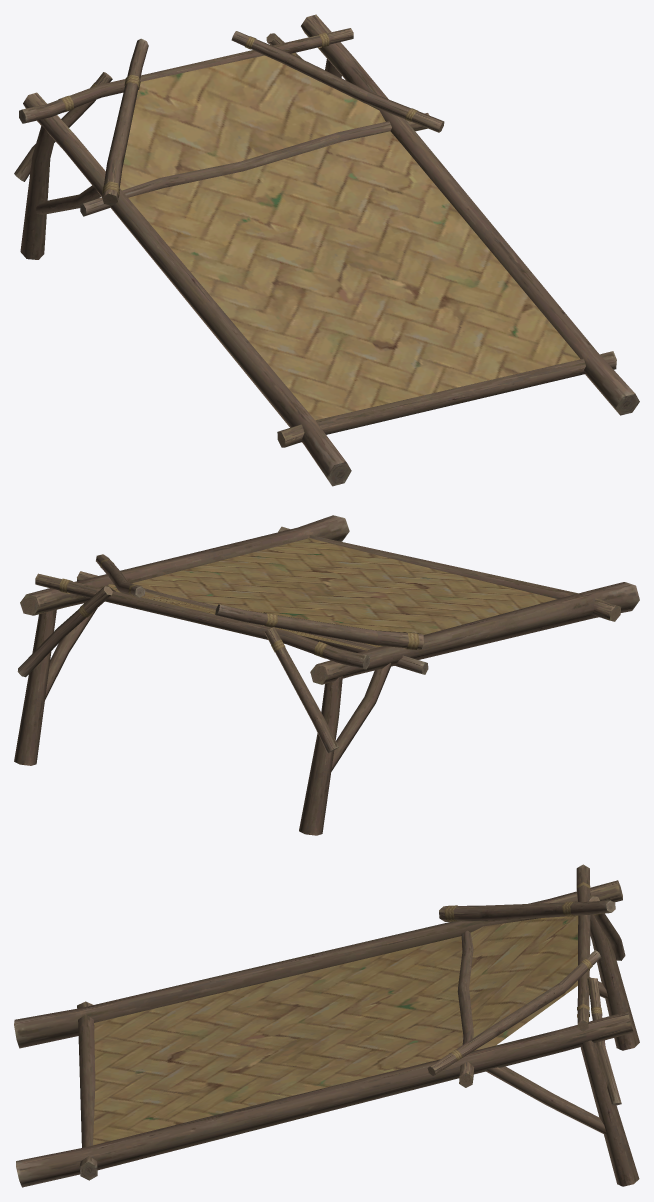
Rendered from Homeworld_Exterior_Xm_Build_WaterStall_02_Lod0.fbx.
3 views of the same model, one above another, from view 1: azimuth 30°, elevation 25°; view 2: azimuth 150°, elevation 25°; view 3: azimuth 270°, elevation 25° (orthographic). The views are drawn at different scales.
Parts seen in each view (by area): view 1: Homeworld_Exterior_Xm_Build_WaterStall_02_Lod0; view 2: Homeworld_Exterior_Xm_Build_WaterStall_02_Lod0; view 3: Homeworld_Exterior_Xm_Build_WaterStall_02_Lod0.
Boxes of the visible parts, x1,y1,x2,y2 form: Homeworld_Exterior_Xm_Build_WaterStall_02_Lod0: [14, 14, 639, 486]; Homeworld_Exterior_Xm_Build_WaterStall_02_Lod0: [14, 515, 639, 835]; Homeworld_Exterior_Xm_Build_WaterStall_02_Lod0: [14, 864, 639, 1187].
Size of the model in its own units: 1.09 by 0.6006 by 1.74.
